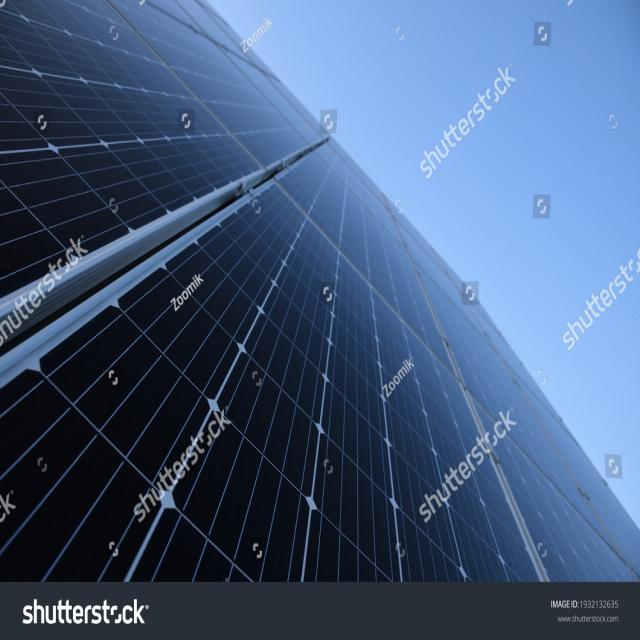clean-solar-panel: (1, 0, 640, 582)
